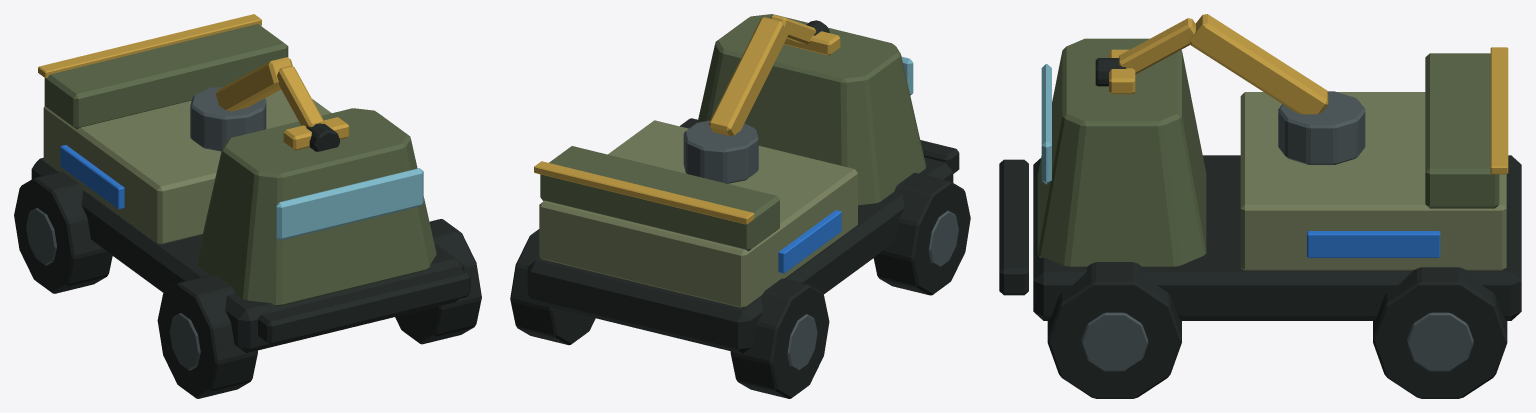
The model's file is h_mech.glb.
3 renders of one model, left to right at view 1: azimuth 30°, elevation 25°; view 2: azimuth 150°, elevation 25°; view 3: azimuth 270°, elevation 25°, orthographic. The views are drawn at different scales.
Visible parts, largest first — view 1: Repair truck; view 2: Repair truck; view 3: Repair truck.
Boxes of the visible parts, <box> form: Repair truck: <box>14,14,481,398</box>; Repair truck: <box>510,14,970,398</box>; Repair truck: <box>999,14,1521,398</box>.
Size of the model in its own units: 2.41 by 2.29 by 3.53.
